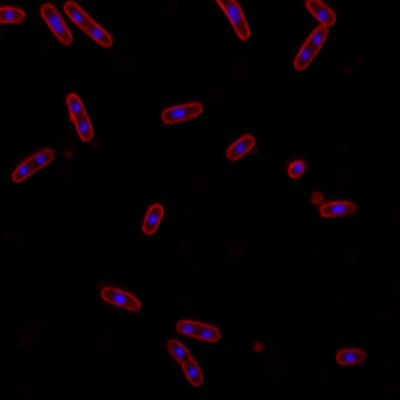CAM: (63, 0, 117, 50), (161, 337, 205, 387), (291, 25, 330, 71), (10, 147, 57, 184), (63, 91, 94, 144), (39, 4, 73, 46), (174, 317, 222, 343), (99, 284, 140, 312), (160, 101, 204, 124), (224, 133, 257, 161), (306, 0, 336, 28), (141, 203, 165, 235), (333, 348, 370, 366)
Oblique: (317, 199, 360, 218), (286, 157, 307, 179)
Vesicle: (309, 189, 322, 207), (252, 338, 265, 352)
